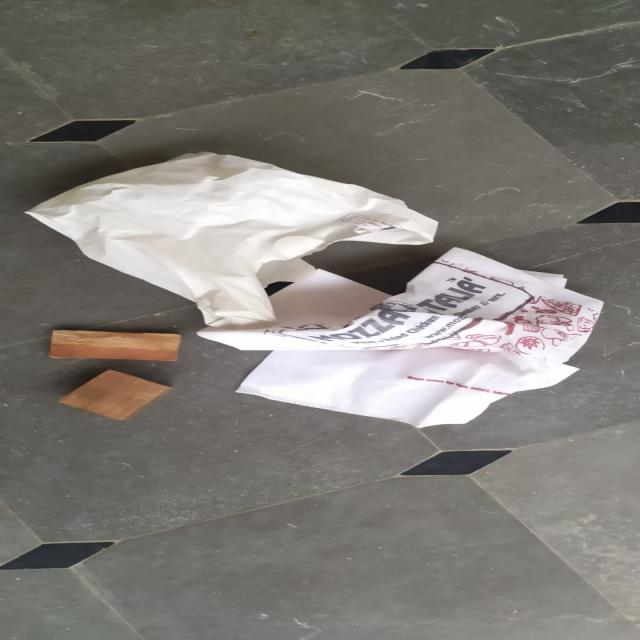plastic: (21, 138, 435, 322)
